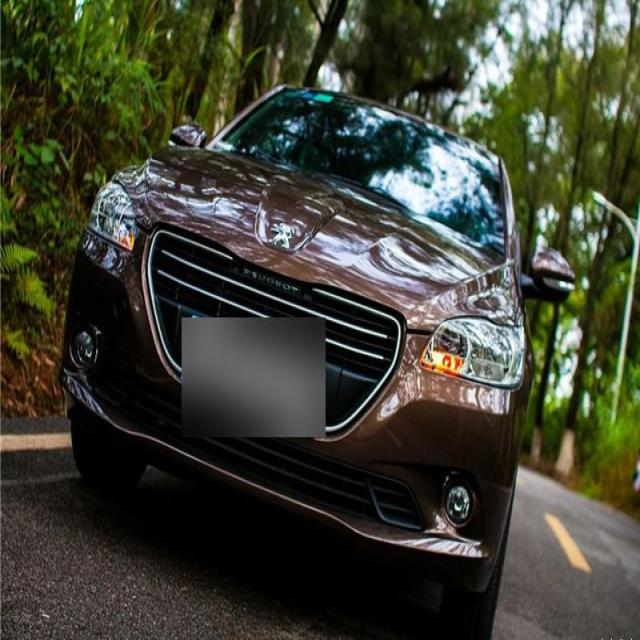front_bumper: (59, 212, 534, 596)
front_glass: (207, 82, 510, 261)
front_left_side_light: (418, 316, 536, 392)
front_left_side_mirror: (522, 240, 578, 302)
front_right_side_light: (81, 169, 140, 253)
front_right_side_mirror: (166, 117, 204, 159)
